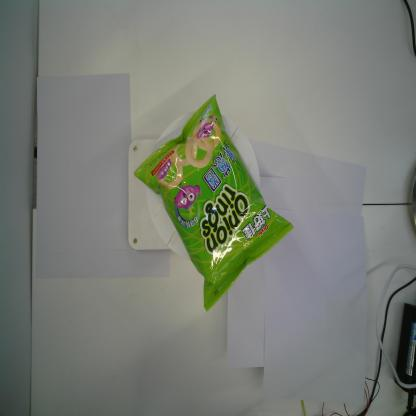Puffed Food: (132, 92, 293, 314)
